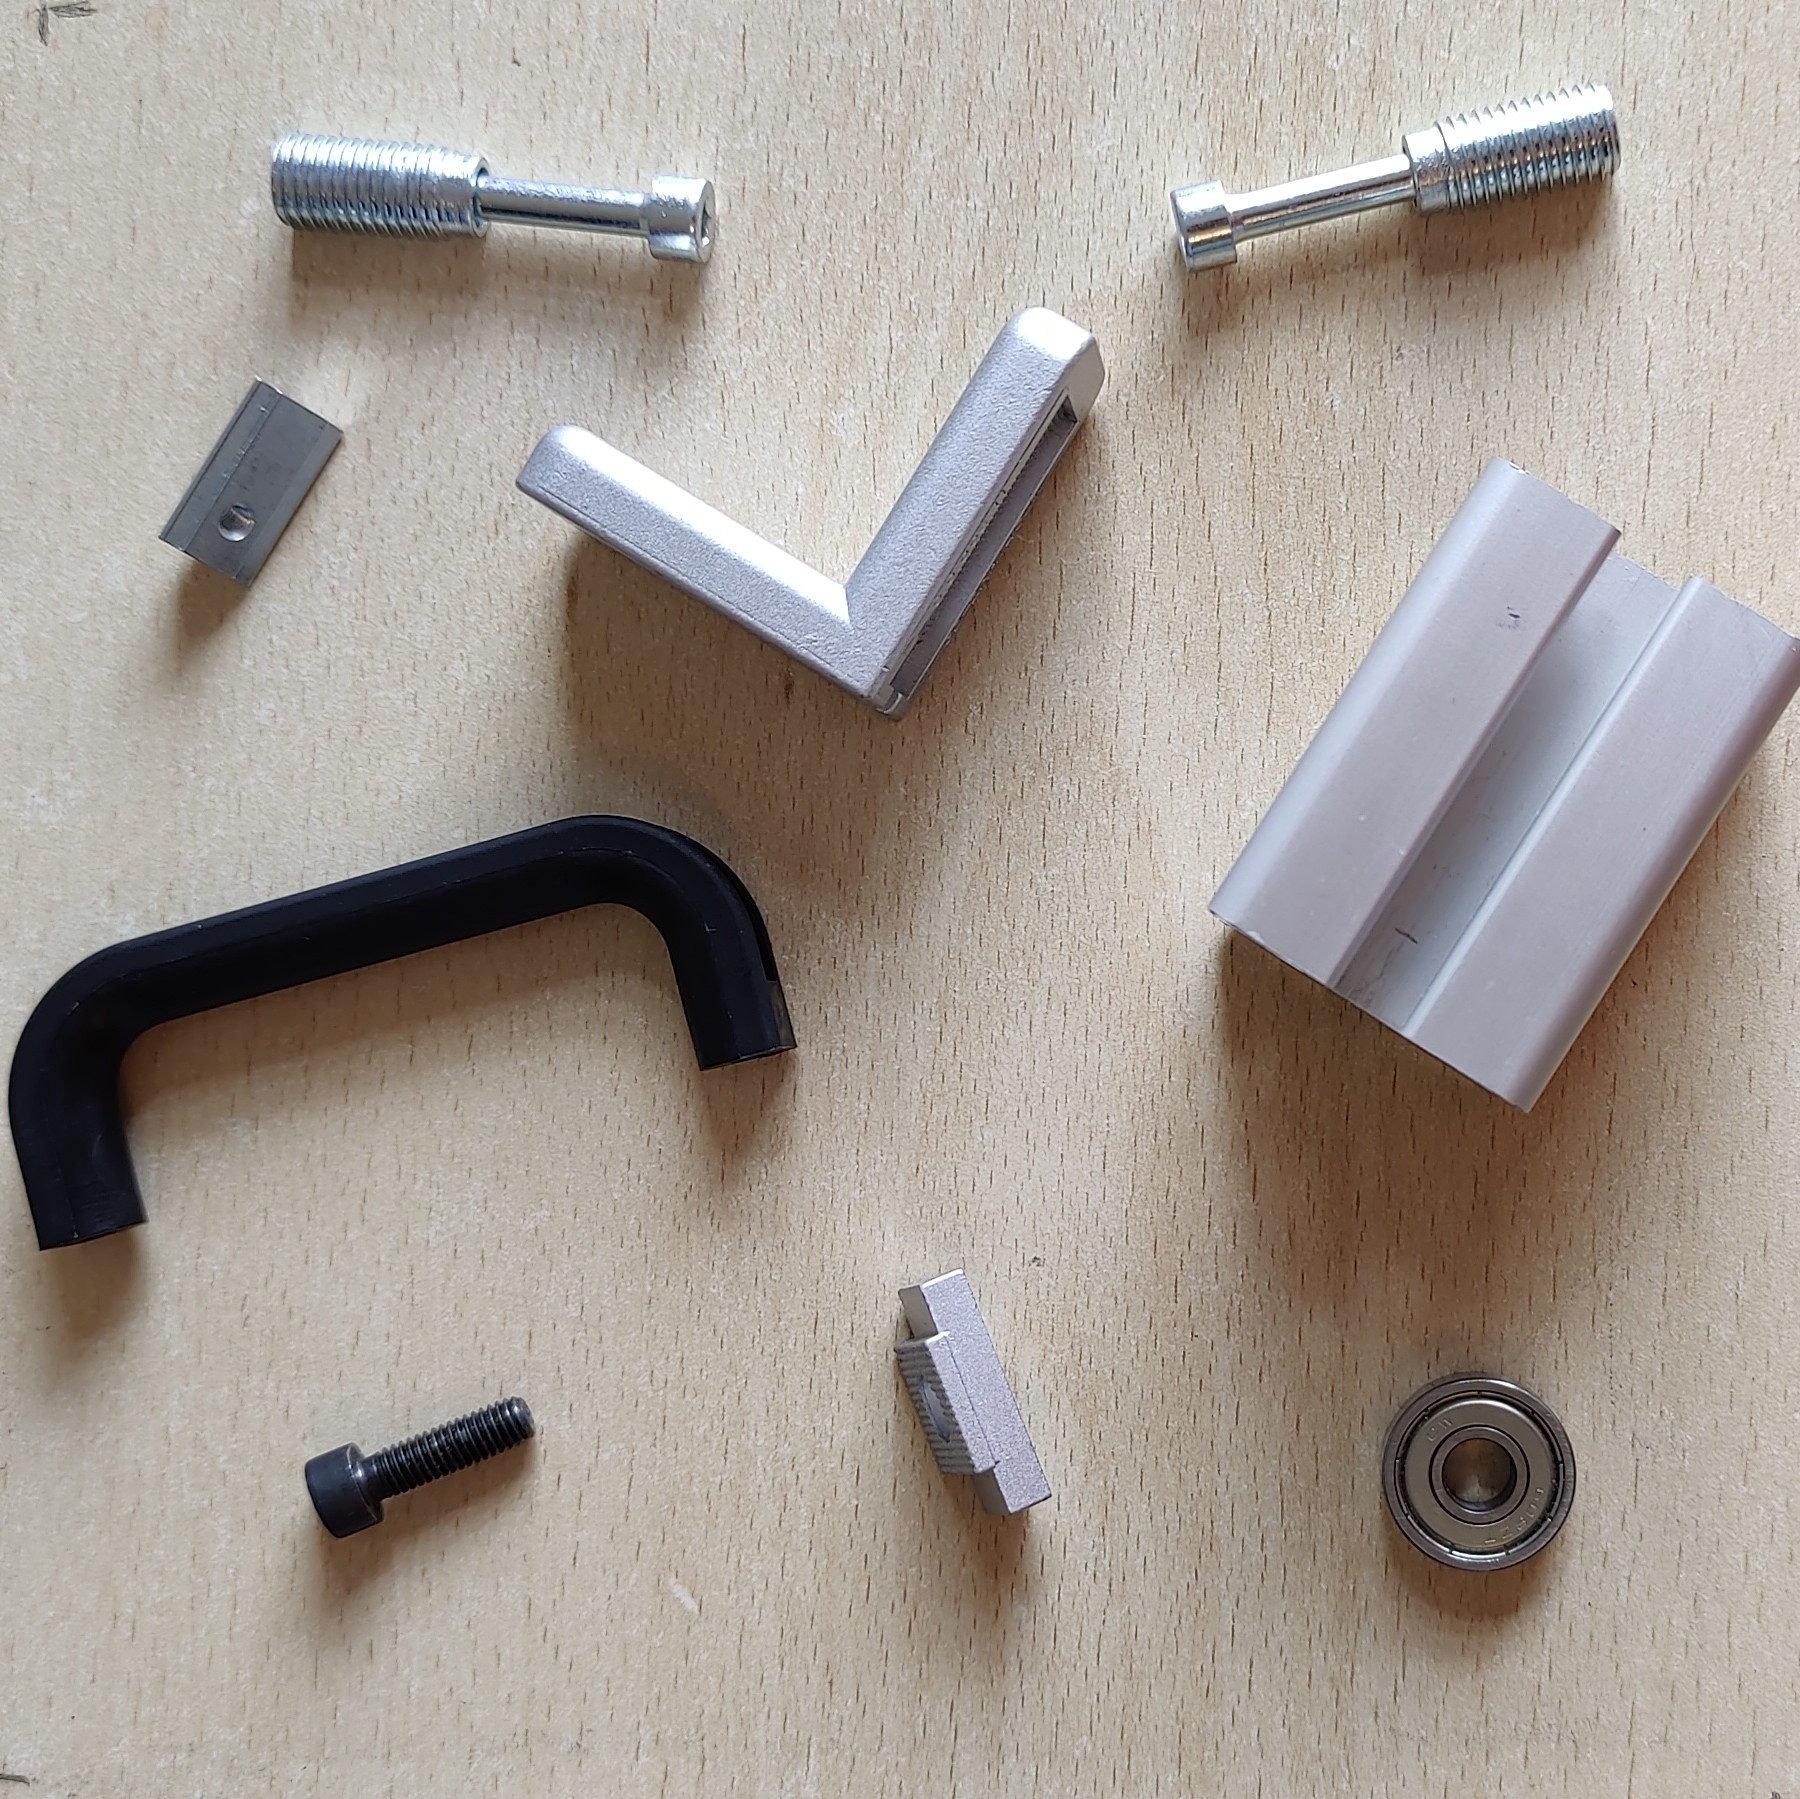Aluminium Extension: (1205, 456, 1800, 1119)
Ball Bearing: (1378, 1367, 1578, 1575)
Multiwinkel: (511, 303, 1105, 723)
Pull Handle: (3, 811, 800, 1254)
Shoulder Socket Head Cap Screw: (1166, 79, 1624, 275), (268, 132, 720, 269)
Socket Head Cap Screw: (305, 1394, 540, 1540)
T Nut Square: (889, 1267, 1054, 1517)
T Spring Nut: (156, 376, 346, 591)
